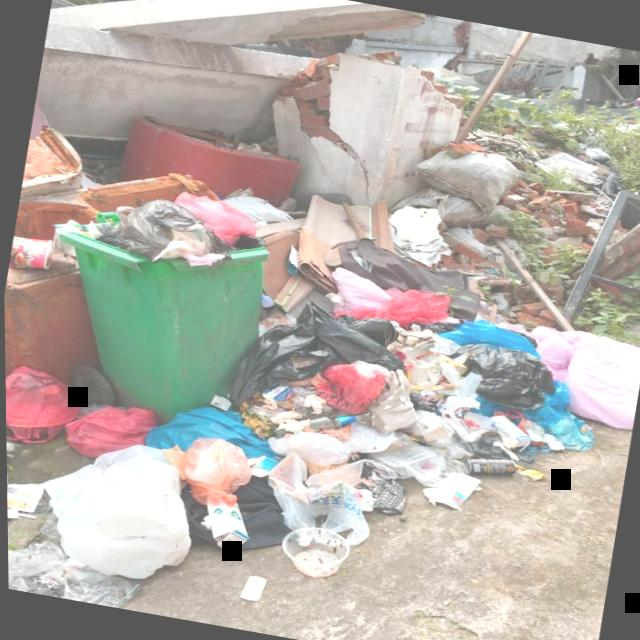Fall-Detected: (405, 290, 640, 453)
